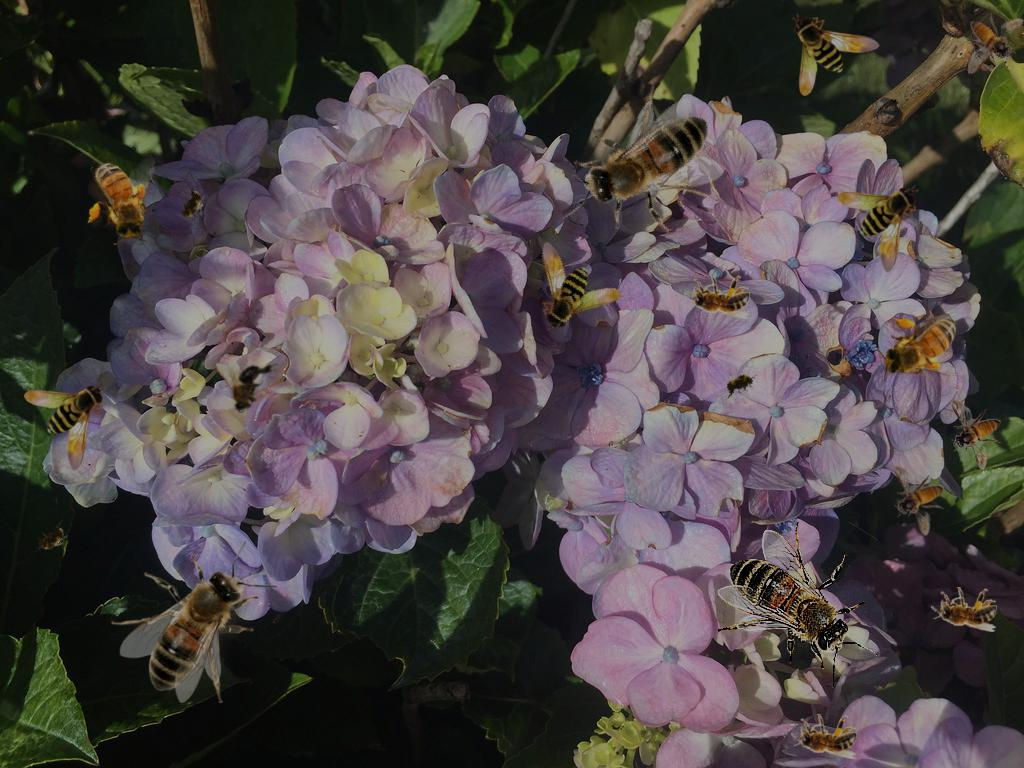Bee: (533, 58, 754, 276), (717, 521, 879, 688), (111, 541, 278, 703), (516, 222, 626, 336), (81, 148, 161, 249), (24, 383, 106, 471), (792, 14, 880, 96), (837, 185, 919, 273), (875, 311, 971, 384), (950, 3, 1024, 76), (894, 465, 944, 536), (951, 399, 1001, 470), (216, 360, 278, 413), (791, 714, 857, 759), (931, 587, 997, 632), (684, 274, 750, 319), (170, 182, 212, 228), (28, 519, 74, 559), (717, 366, 763, 402)
